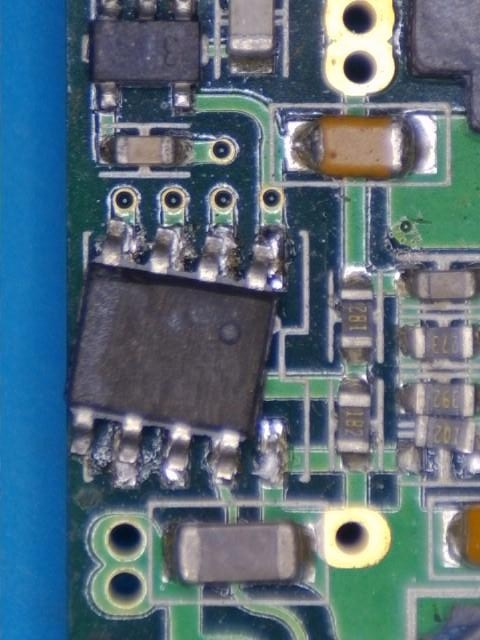pcb_defect: (68, 220, 282, 489), (397, 416, 480, 481)
